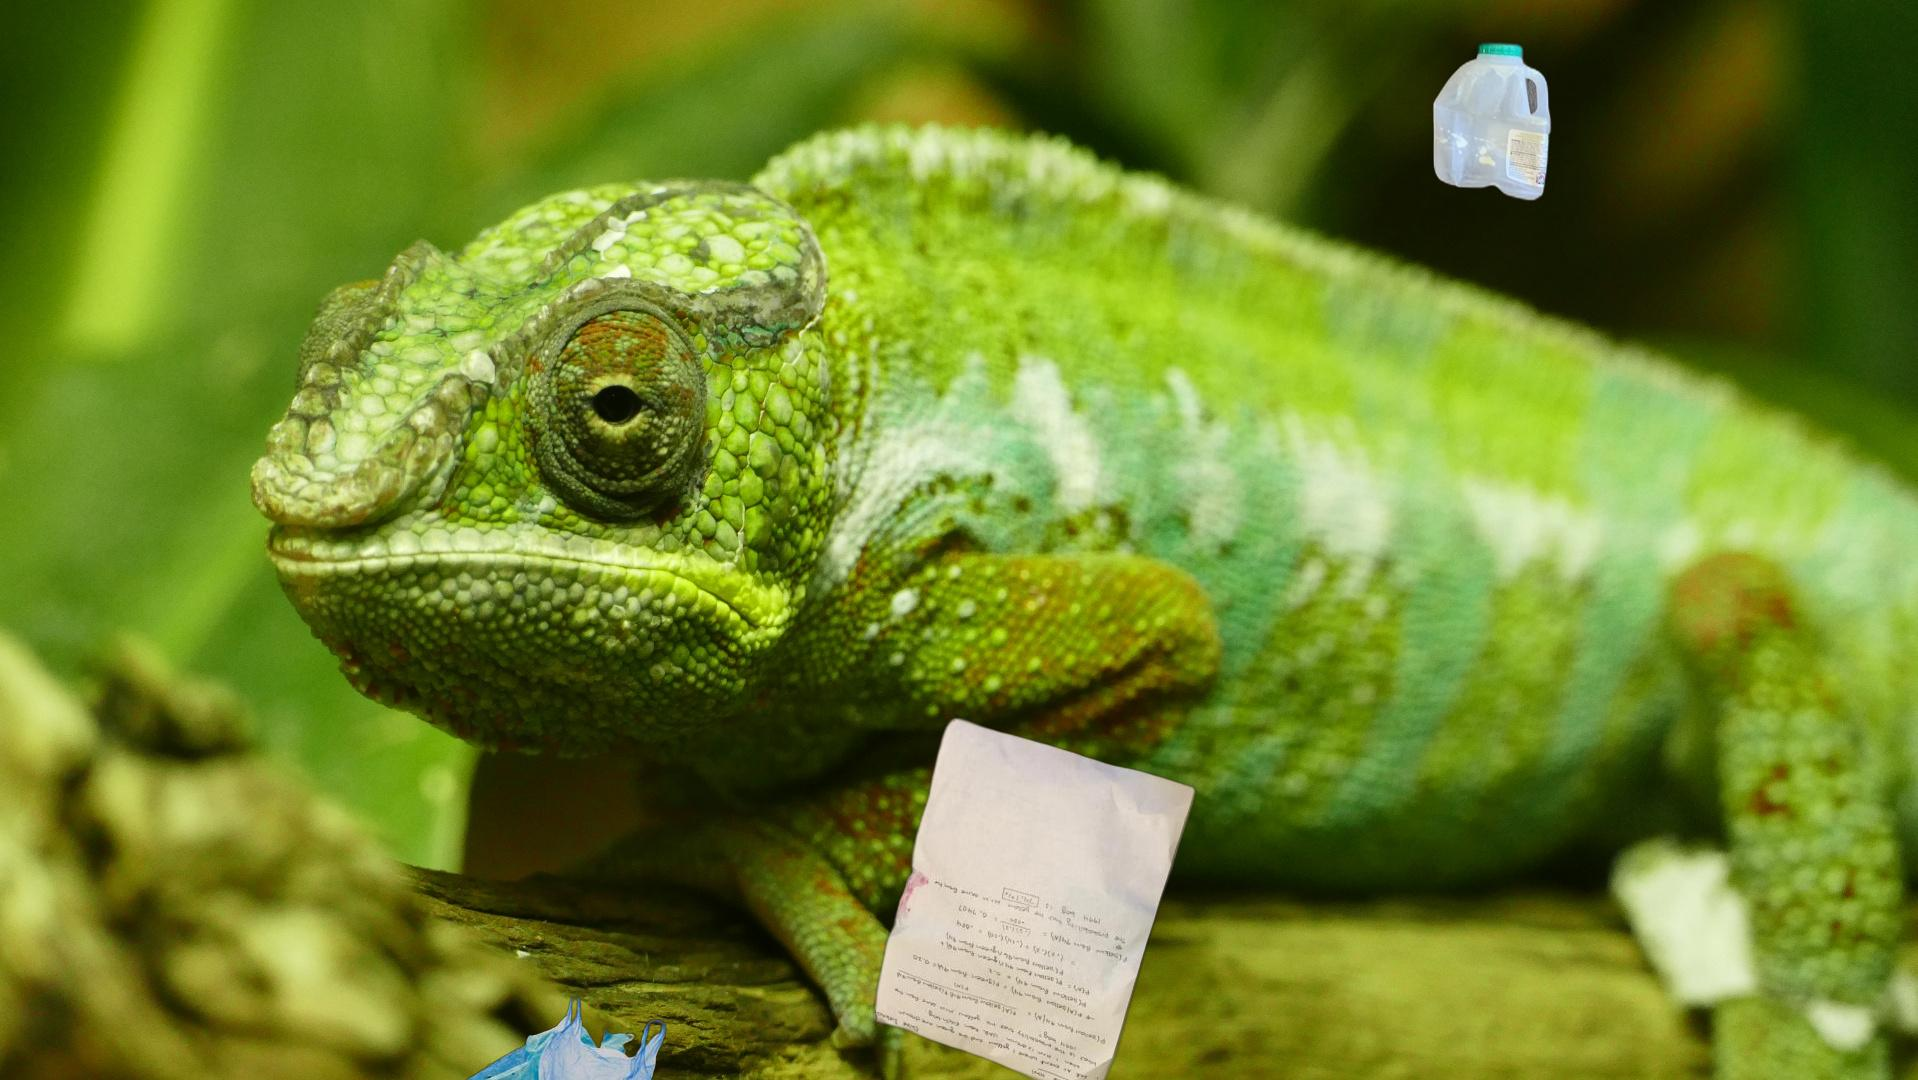paper: (869, 713, 1200, 1080)
penholder: (1773, 258, 1918, 1008)
plastic-bag: (433, 993, 669, 1080)
plastic-bottles: (1428, 36, 1554, 207)
